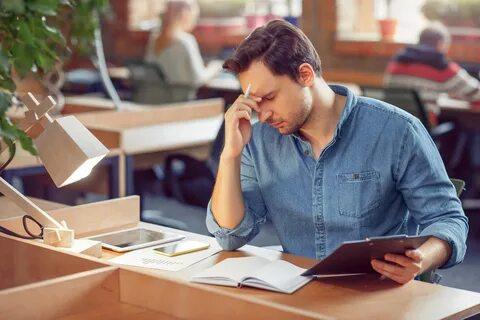awake: (204, 18, 470, 285)
